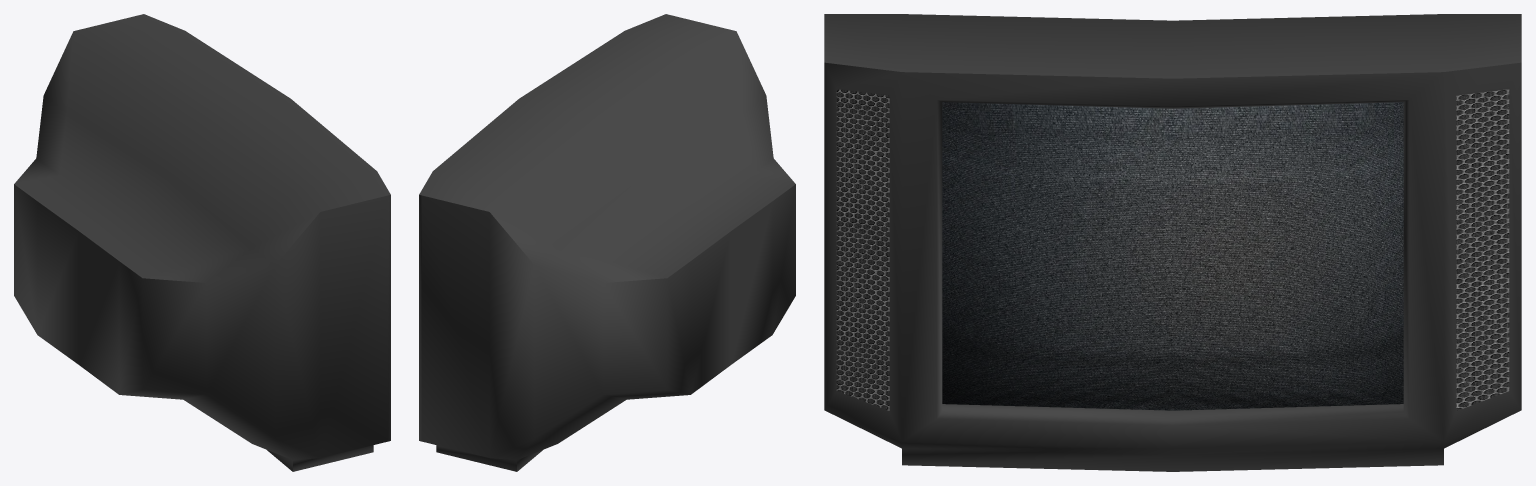
The picture shows the model from 3 angles, left to right: view 1: azimuth 30°, elevation 25°; view 2: azimuth 150°, elevation 25°; view 3: azimuth 270°, elevation 25°; orthographic projection. The views are drawn at different scales.
Parts seen in each view (by area): view 1: Cube.041; view 2: Cube.041; view 3: Cube.041.
Boxes of the visible parts, x1=… form: Cube.041: x1=14, y1=14, x2=390, y2=471; Cube.041: x1=419, y1=14, x2=795, y2=471; Cube.041: x1=824, y1=14, x2=1521, y2=471.
Bounding box in the file's own units: 123 × 146 × 234.
